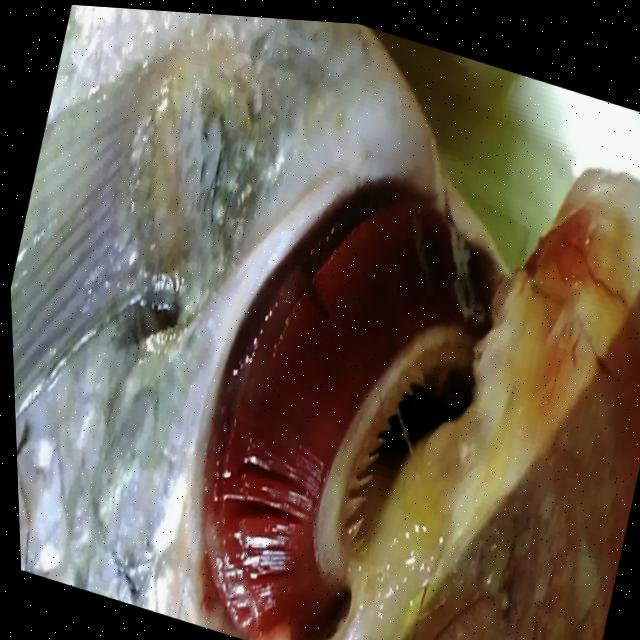Fresh: (133, 77, 502, 640)
